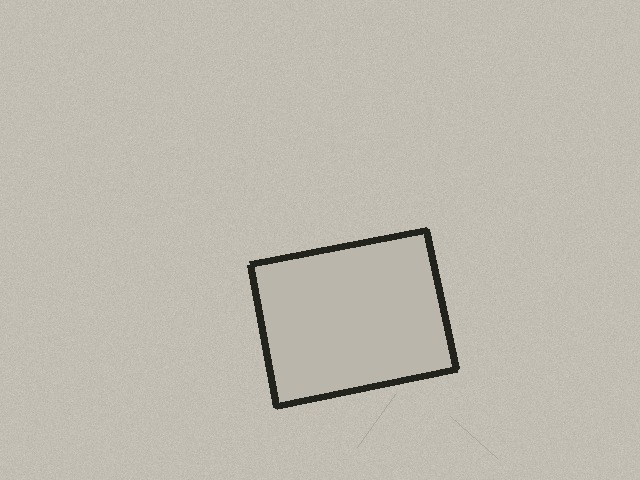parking_area: (250, 230, 456, 406)
